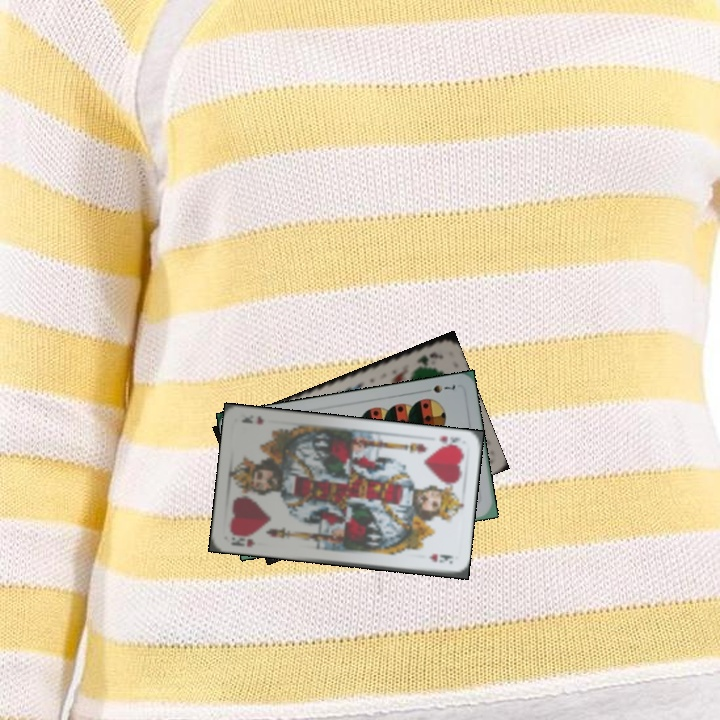GK: (413, 350, 440, 367)
HK: (435, 431, 464, 452), (227, 533, 258, 550)
S7: (419, 381, 458, 396)
